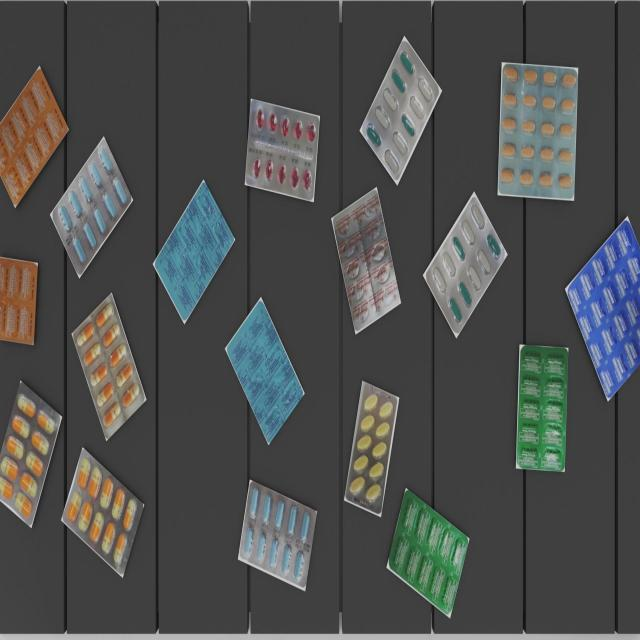blister: (567, 220, 640, 399), (155, 181, 234, 324), (426, 194, 506, 334), (52, 140, 133, 278), (362, 38, 439, 183), (227, 300, 304, 444), (498, 62, 578, 200), (62, 449, 143, 578), (73, 294, 143, 440), (389, 488, 468, 614), (333, 188, 401, 332), (0, 68, 69, 208), (239, 478, 318, 590), (0, 381, 60, 525), (245, 96, 319, 201), (344, 380, 398, 517), (515, 342, 570, 472), (0, 256, 39, 346)
